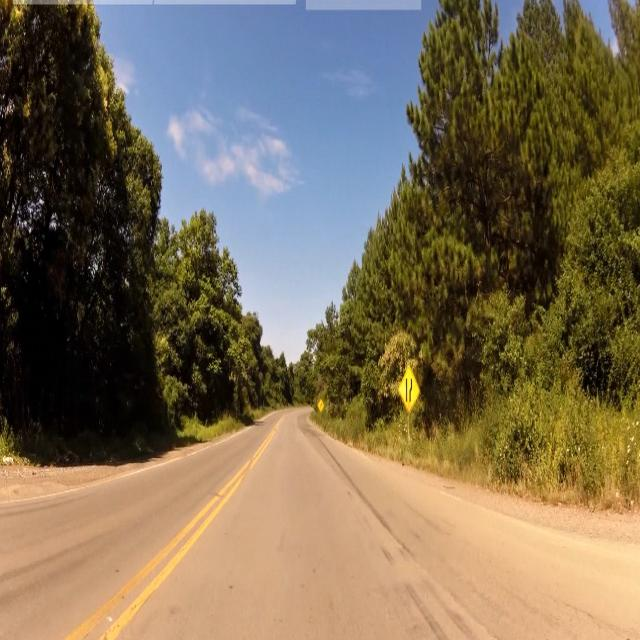A-21e: (400, 366, 420, 414)
